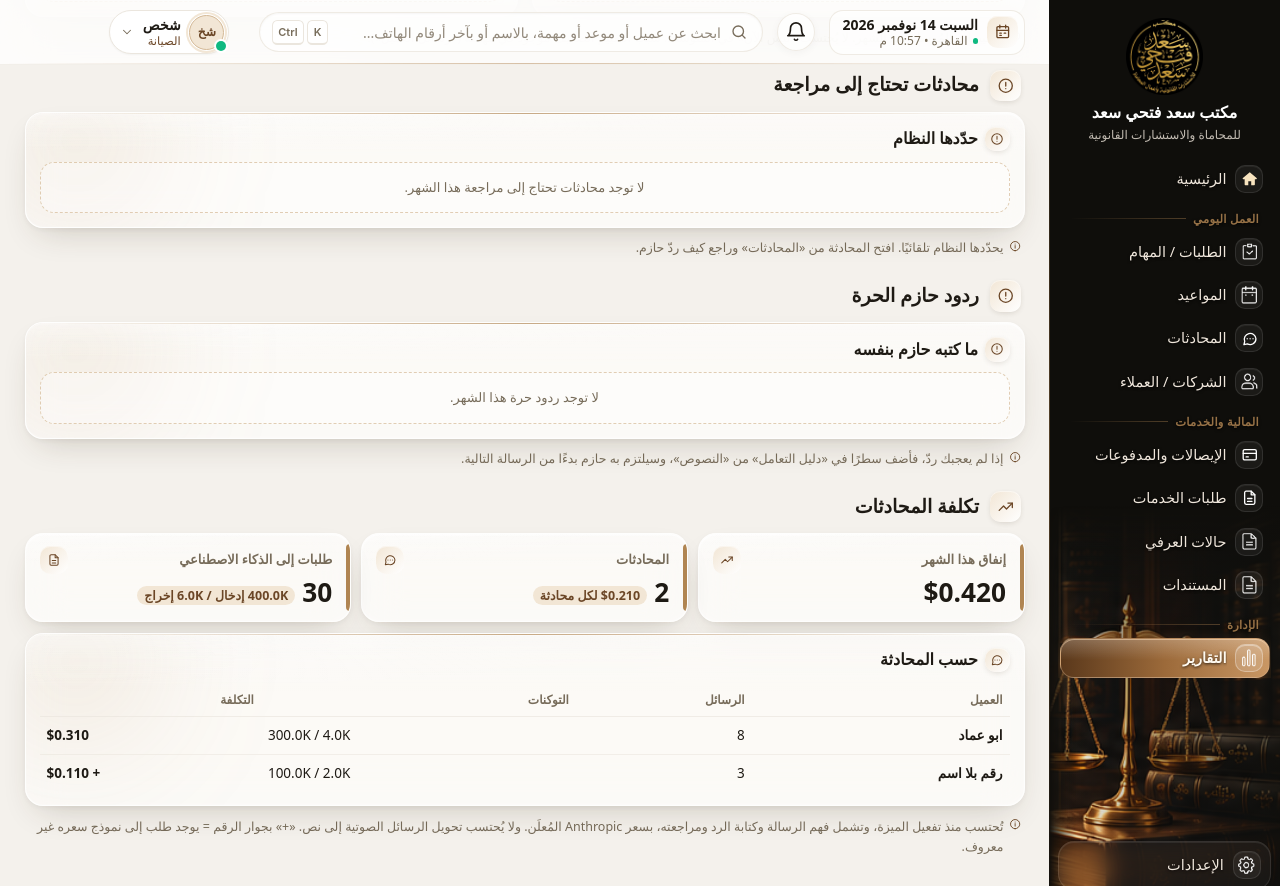
it: TASK 07c tools › v1.58: the AI cost by conversation, and by message when a row is opened
(page scrolled)
Expected: the text "$0.420" is shown, [923,574,1006,610]
Expected: the text "$0.210 لكل محادثة" is shown, [533,586,647,604]
Click the button "ابو عماد" at (980, 736), box [958,724,1002,747]
(page scrolled)
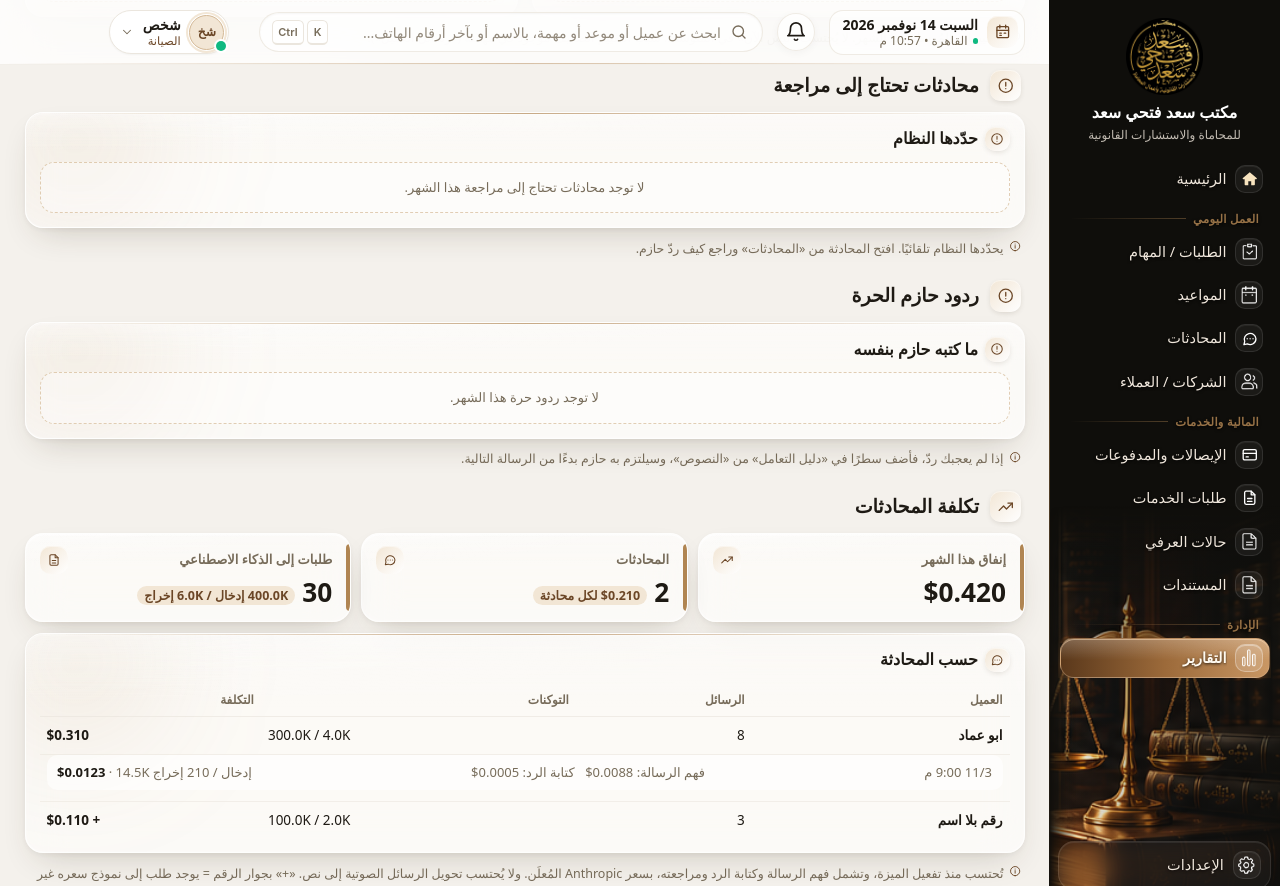
Result: the list named "رسائل المحادثة" shows "فهم الرسالة" at [640,763,705,781]
Result: the list named "رسائل المحادثة" shows "كتابة الرد" at [526,763,575,781]
Result: the list named "رسائل المحادثة" shows "$0.0123" at [57,763,105,781]
